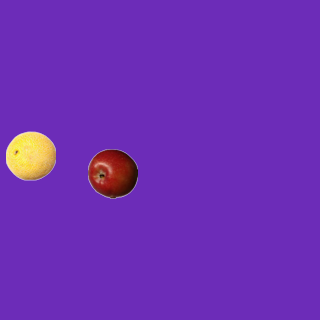Apple Braeburn: (87, 148, 137, 198)
Cantaloupe 1: (5, 130, 55, 180)
